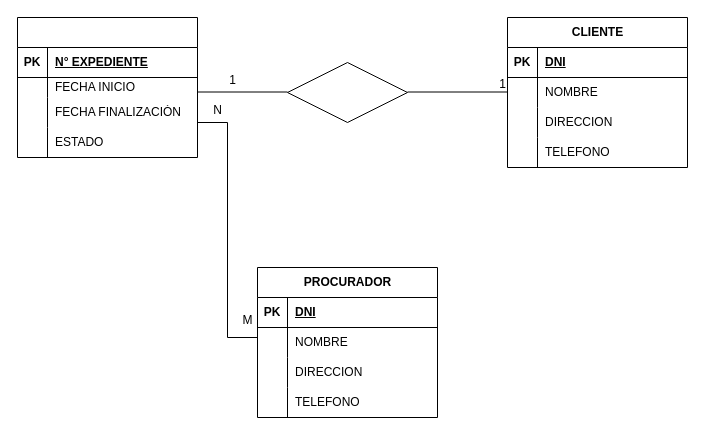
The diagram is 705 pixels wide and 435 high, and some of its shapes have lost their labels. Each missing label, with the box of its shape:
ASUNTO: (16, 16, 198, 158)
CORRESPONDE: (286, 62, 408, 122)
